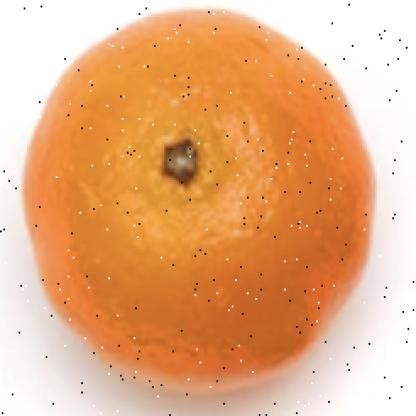fresh: (21, 10, 376, 388)
